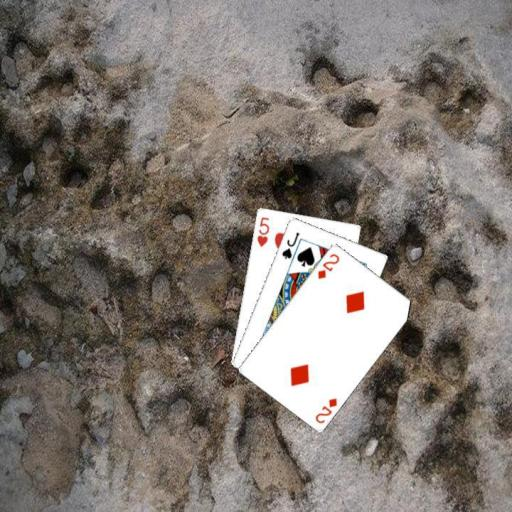2D: (314, 250, 341, 280), (312, 395, 339, 425)
5H: (254, 214, 270, 249)
JS: (279, 229, 301, 260)
